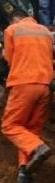boots: (25, 142, 52, 171), (16, 163, 32, 183)
gloves: (0, 48, 7, 64)
hard-hat: (0, 0, 13, 10)
ppe-suit: (0, 0, 28, 160)
